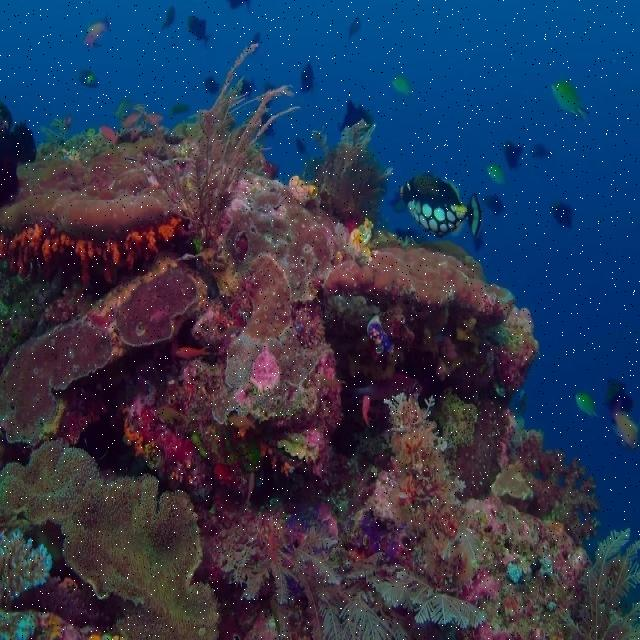fish: (403, 173, 483, 240), (607, 381, 639, 442), (555, 85, 588, 125)
reefs: (1, 49, 639, 639)
